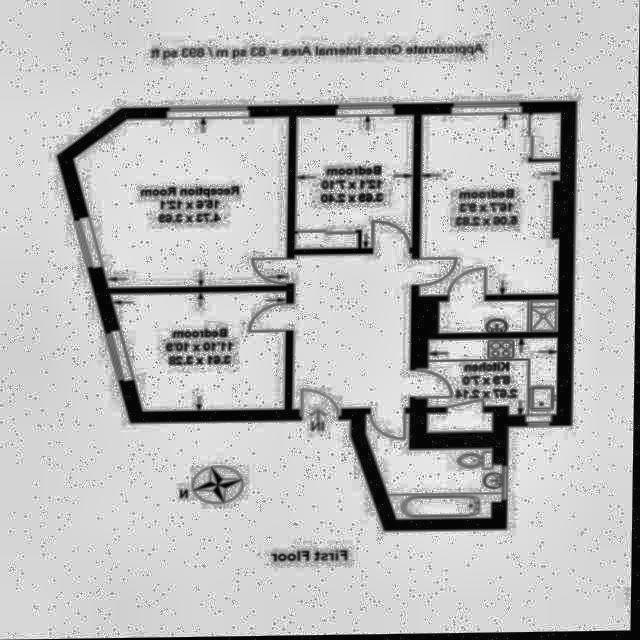room: (76, 118, 297, 289), (411, 113, 561, 298), (114, 293, 297, 411), (295, 254, 411, 423), (295, 115, 415, 256), (367, 407, 504, 520), (409, 340, 560, 433), (439, 295, 560, 335)
